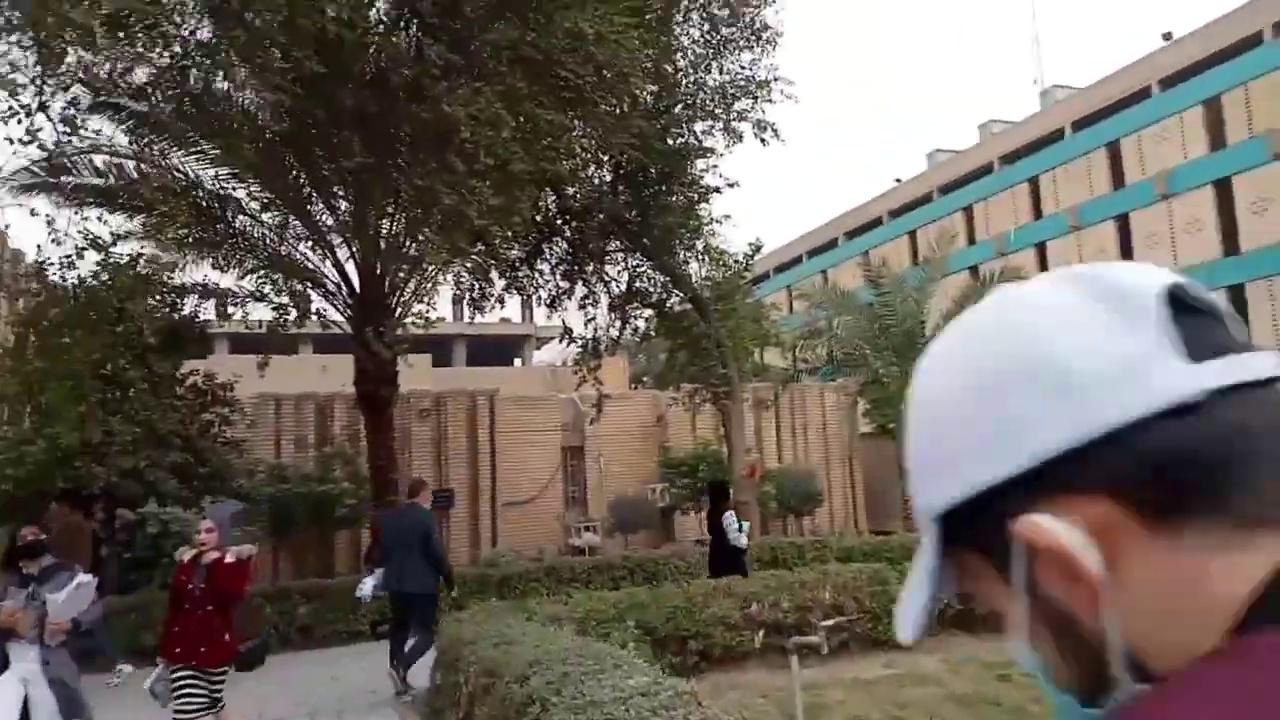person: (894, 258, 1279, 719), (156, 516, 259, 719), (366, 477, 455, 698), (41, 487, 135, 687), (0, 524, 93, 719), (705, 478, 749, 578)
tree: (1, 0, 796, 563), (421, 534, 1074, 718), (0, 235, 254, 591), (780, 221, 1019, 533), (633, 237, 785, 532), (240, 439, 372, 584), (755, 459, 824, 537)
